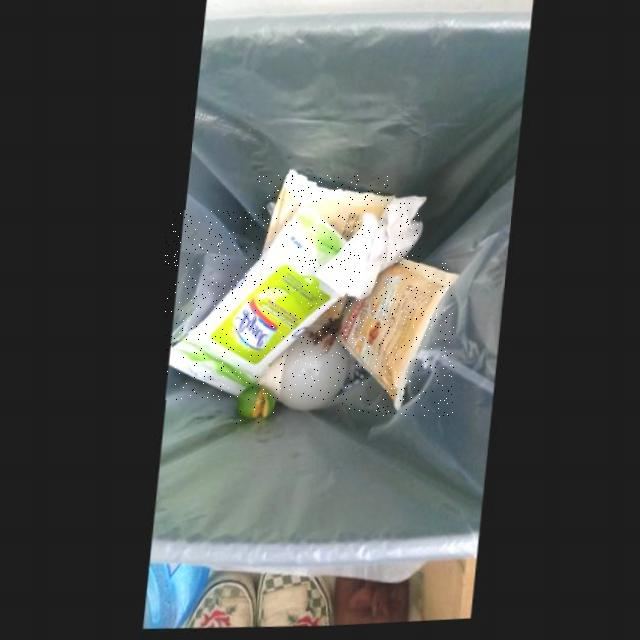biowaste: (234, 388, 274, 423)
paper: (311, 202, 420, 305)
wrapper: (166, 210, 343, 400), (333, 263, 454, 416), (258, 174, 388, 258)
